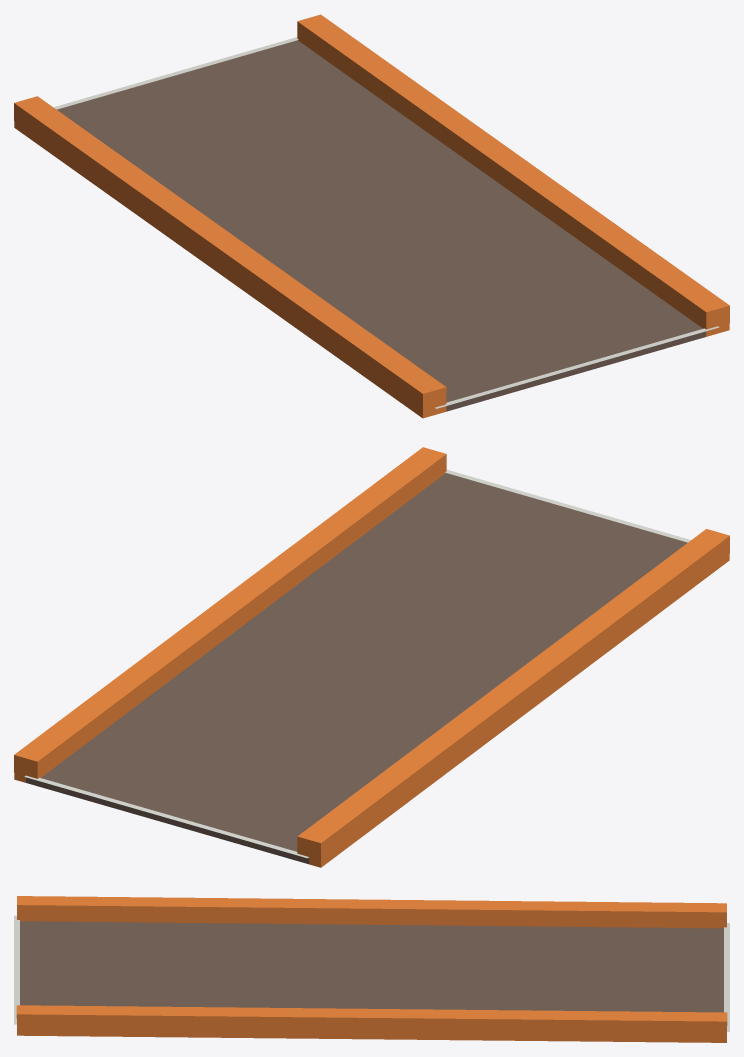
Rendered from SM_MP_Film_C_4_3.fbx.
3 views of the same model, one above another, from view 1: azimuth 30°, elevation 25°; view 2: azimuth 150°, elevation 25°; view 3: azimuth 270°, elevation 25° (orthographic). The views are drawn at different scales.
Parts seen in each view (by area): view 1: SM_MP_Film_C_4_3; view 2: SM_MP_Film_C_4_3; view 3: SM_MP_Film_C_4_3.
Boxes of the visible parts, left/top/right/bottom form: SM_MP_Film_C_4_3: left=14, top=14, right=729, bottom=418; SM_MP_Film_C_4_3: left=14, top=447, right=729, bottom=867; SM_MP_Film_C_4_3: left=14, top=896, right=729, bottom=1042.
Size of what is drawn, in the model's own units: 260 by 605 by 37.71.
